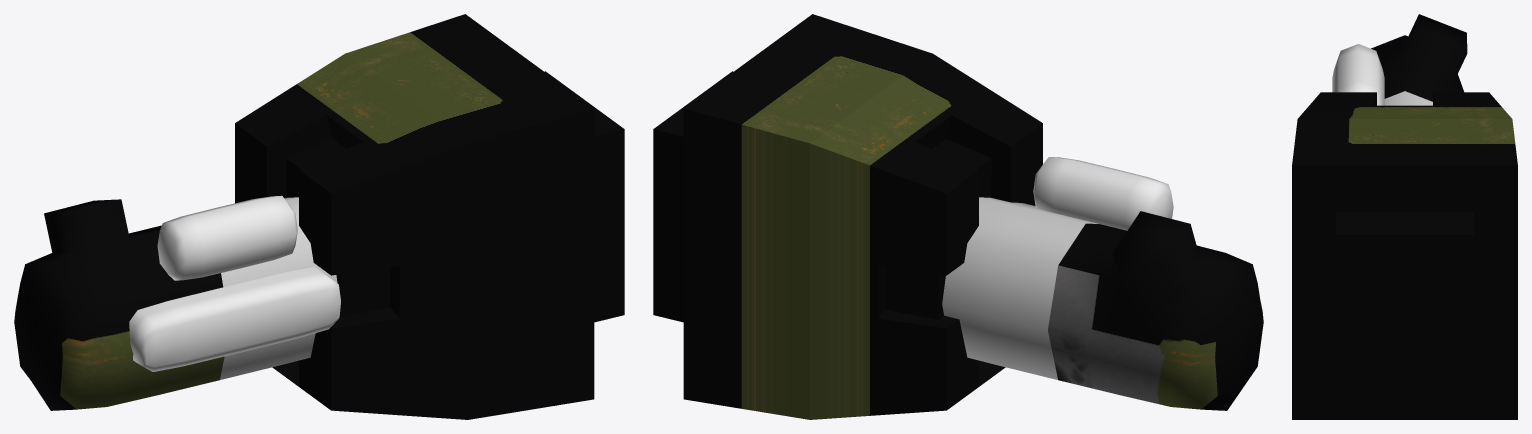
File: GreenGun.fbx
3 renders of one model, left to right at view 1: azimuth 30°, elevation 25°; view 2: azimuth 150°, elevation 25°; view 3: azimuth 270°, elevation 25°, orthographic. The views are drawn at different scales.
Visible parts, largest first — view 1: Arm Gun, arm hand, arm hand.002, arm hand.001; view 2: Arm Gun, arm hand, arm hand.001; view 3: Arm Gun, arm hand, arm hand.001.
Part boxes in pixels (x1,y1,x2,y2): Arm Gun: (235, 14, 624, 419); arm hand: (14, 197, 337, 410); arm hand.002: (129, 267, 340, 371); arm hand.001: (157, 195, 297, 280); Arm Gun: (653, 14, 1042, 419); arm hand: (942, 197, 1263, 410); arm hand.001: (1033, 157, 1173, 230); Arm Gun: (1292, 92, 1517, 419); arm hand: (1371, 14, 1467, 105); arm hand.001: (1332, 44, 1384, 105).
Size of the model in its own units: 49.39 by 24.95 by 20.07.
